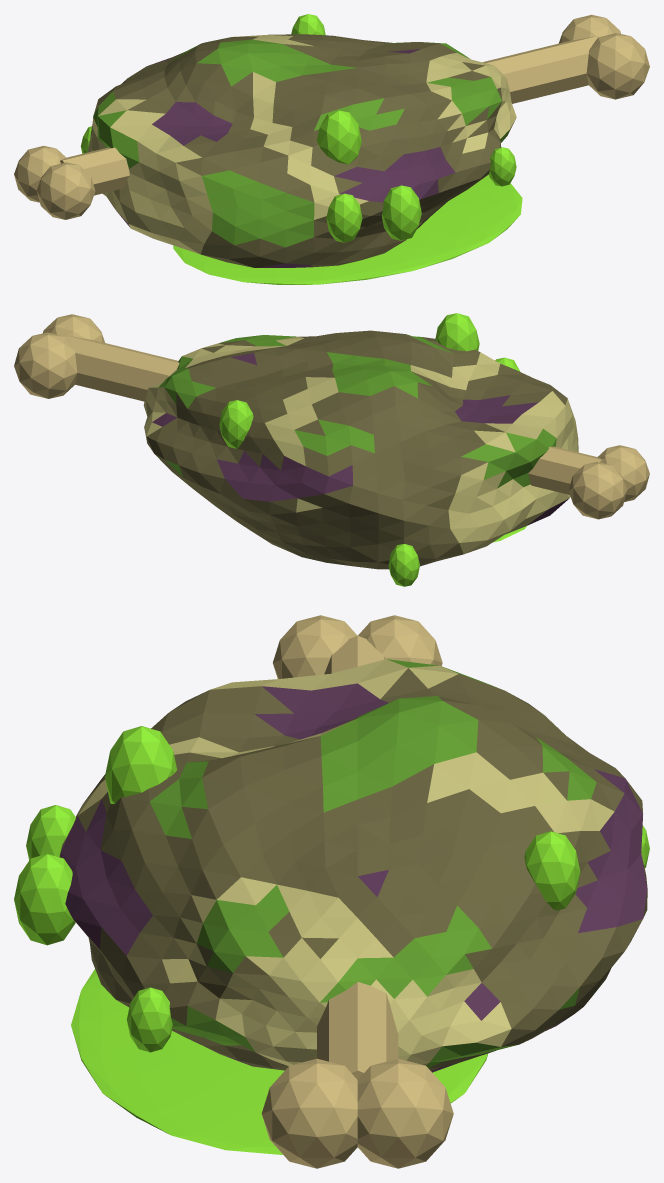
File: carne_podrida.glb
The picture shows the model from 3 angles, top to bottom: view 1: azimuth 30°, elevation 25°; view 2: azimuth 150°, elevation 25°; view 3: azimuth 270°, elevation 25°; orthographic projection. The views are drawn at different scales.
Parts seen in each view (by area): view 1: carne_podrida; view 2: carne_podrida; view 3: carne_podrida.
Boxes of the visible parts, x1,y1,x2,y2 form: carne_podrida: (14,14,649,284); carne_podrida: (14,313,649,586); carne_podrida: (14,615,649,1168).
Bounding box in the file's own units: 1.54 × 0.3993 × 0.8603.
